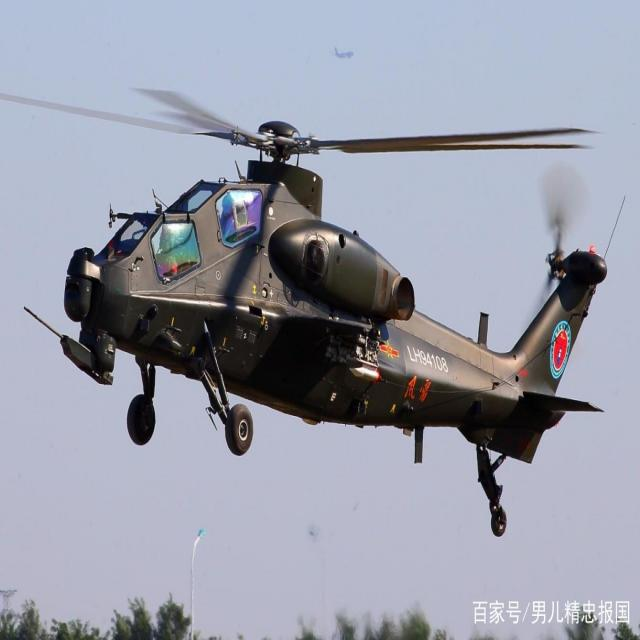MIL_HELO: (0, 66, 612, 552)
